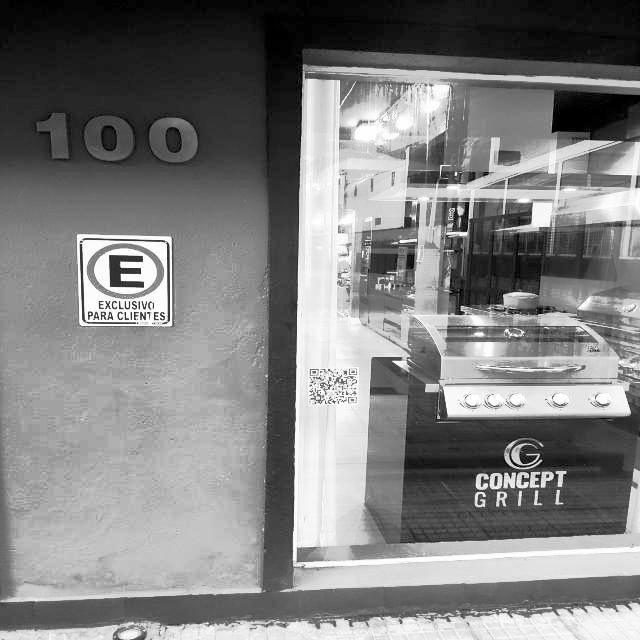qr_code: (310, 369, 358, 405)
